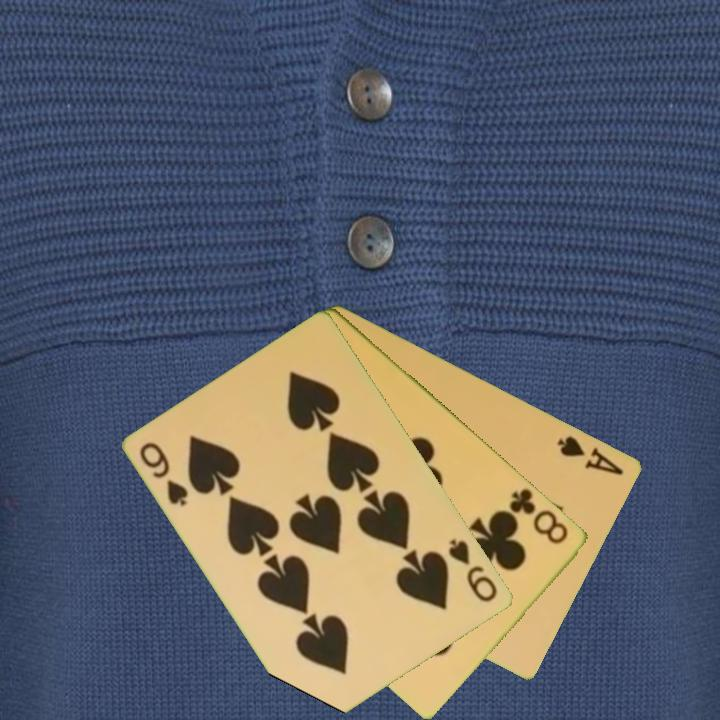8c: (506, 484, 572, 548)
9s: (445, 535, 501, 606), (136, 438, 192, 509)
As: (554, 432, 628, 478)
